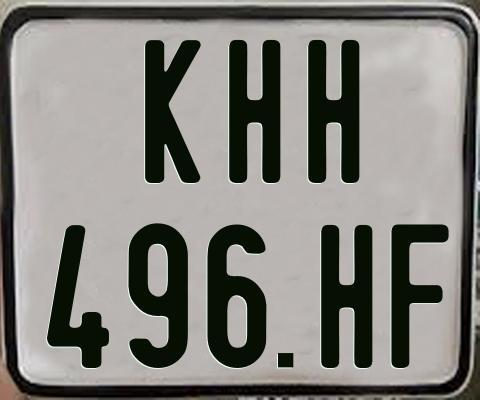4: (44, 225, 107, 373)
6: (204, 223, 265, 369)
9: (126, 223, 191, 372)
F: (389, 221, 452, 367)
H: (321, 223, 378, 370), (229, 37, 285, 180), (306, 38, 360, 186)
K: (144, 37, 202, 182)
